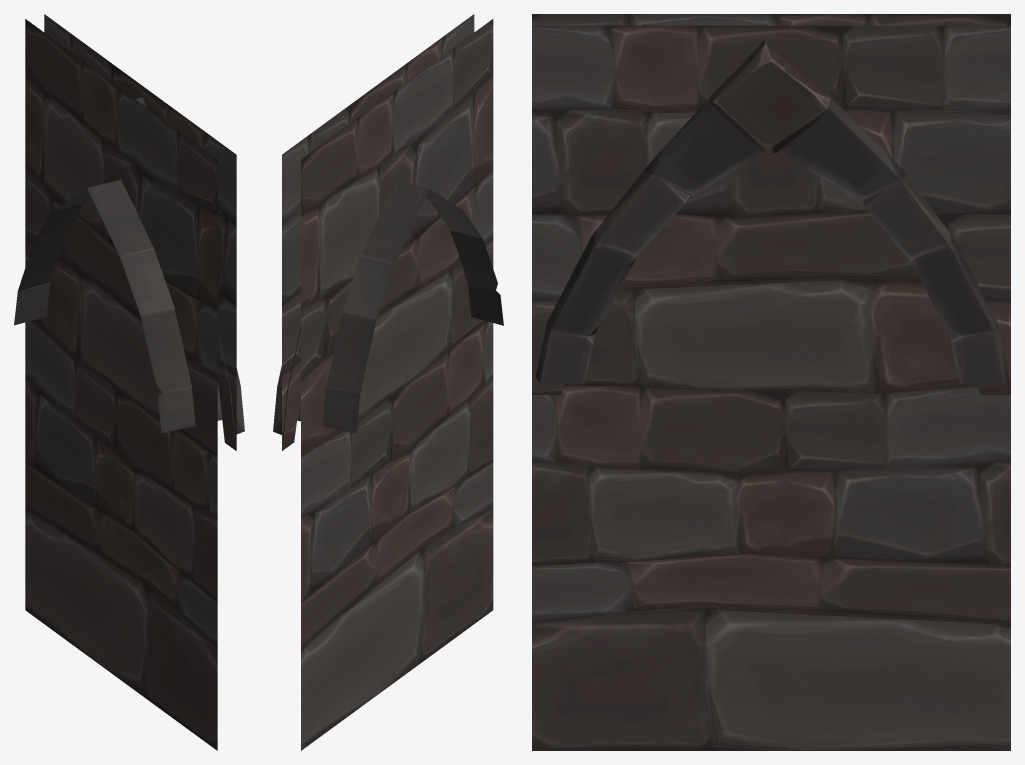
Rendered from A_CA_GEN_WallPanel_02.fbx.
3 views of the same model, side by side, from view 1: azimuth 30°, elevation 25°; view 2: azimuth 150°, elevation 25°; view 3: azimuth 270°, elevation 25° (orthographic). The views are drawn at different scales.
Visible parts, largest first — view 1: A_CA_GEN_WallPanel_02; view 2: A_CA_GEN_WallPanel_02; view 3: A_CA_GEN_WallPanel_02.
Part boxes in pixels (x1,y1,x2,y2): A_CA_GEN_WallPanel_02: (14,14,244,750); A_CA_GEN_WallPanel_02: (273,14,503,750); A_CA_GEN_WallPanel_02: (532,14,1010,750).
Bounding box in the file's own units: 152 × 1188 × 700.
1 material, 1 textured.
